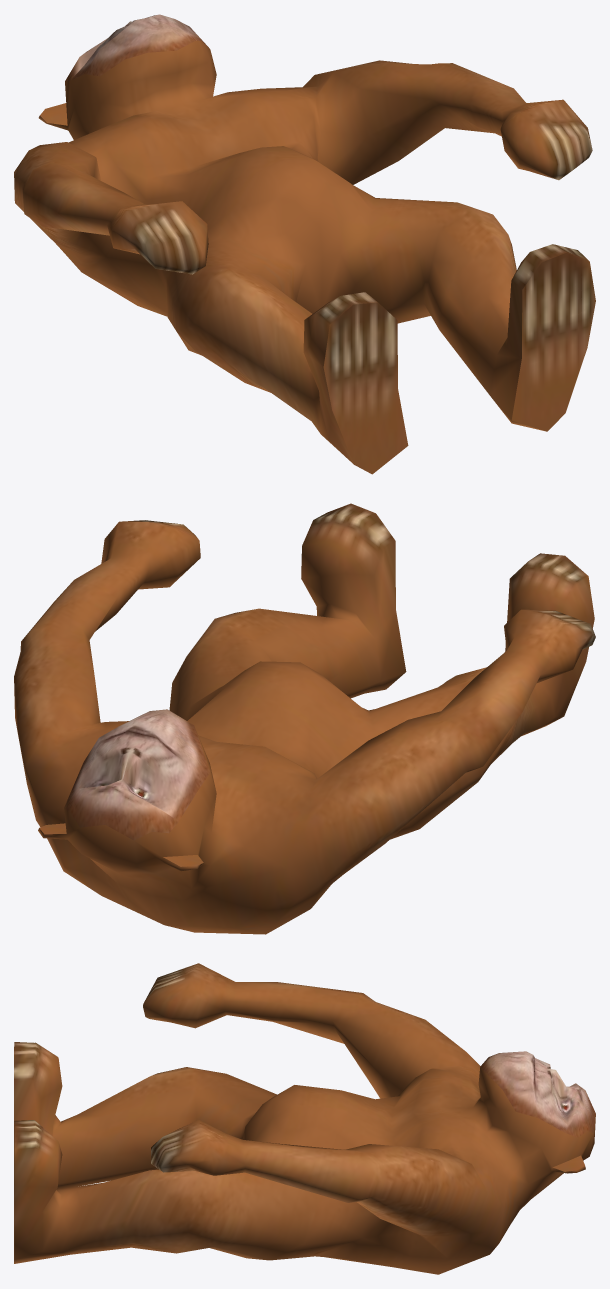
File: monkey.glb
3 renders of one model, top to bottom at view 1: azimuth 30°, elevation 25°; view 2: azimuth 150°, elevation 25°; view 3: azimuth 270°, elevation 25°, orthographic. The views are drawn at different scales.
Parts seen in each view (by area): view 1: Object; view 2: Object; view 3: Object.
Boxes of the visible parts, x1,y1,x2,y2 form: Object: [14, 14, 595, 474]; Object: [14, 503, 595, 934]; Object: [14, 963, 595, 1274].
Size of the model in its own units: 14.89 by 7.98 by 19.57.
Materials: 1 (1 with a texture image).
